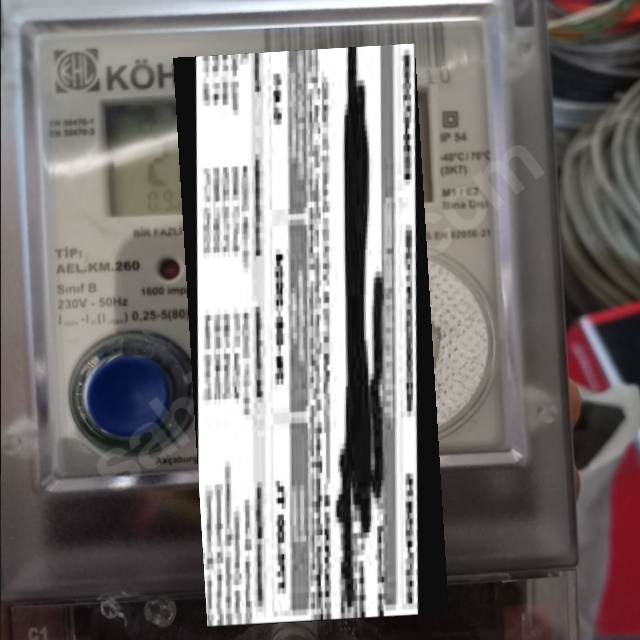electricity-bill: (172, 43, 448, 628)
